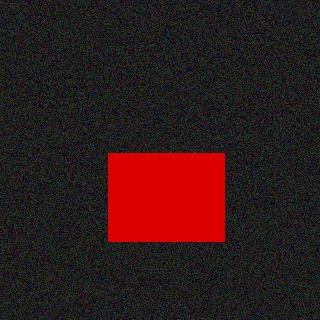red_barrel: (108, 154, 225, 241)
